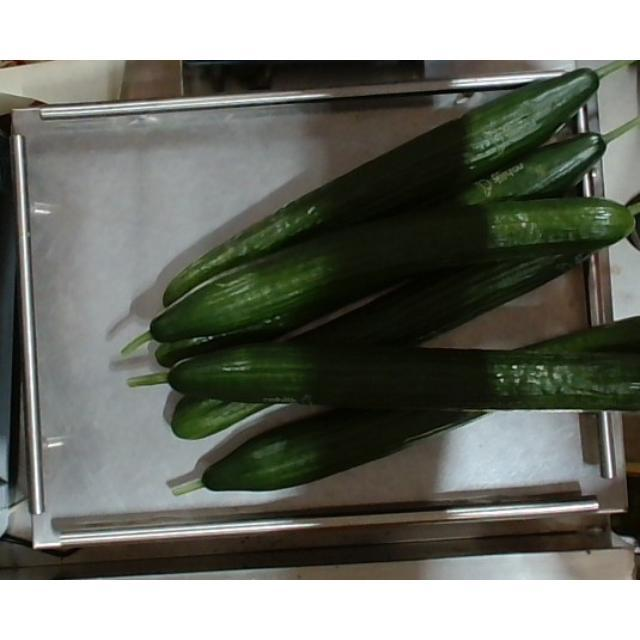cucumber: (161, 61, 639, 316), (136, 205, 640, 435), (158, 312, 640, 500), (116, 193, 640, 355), (440, 107, 640, 207)
